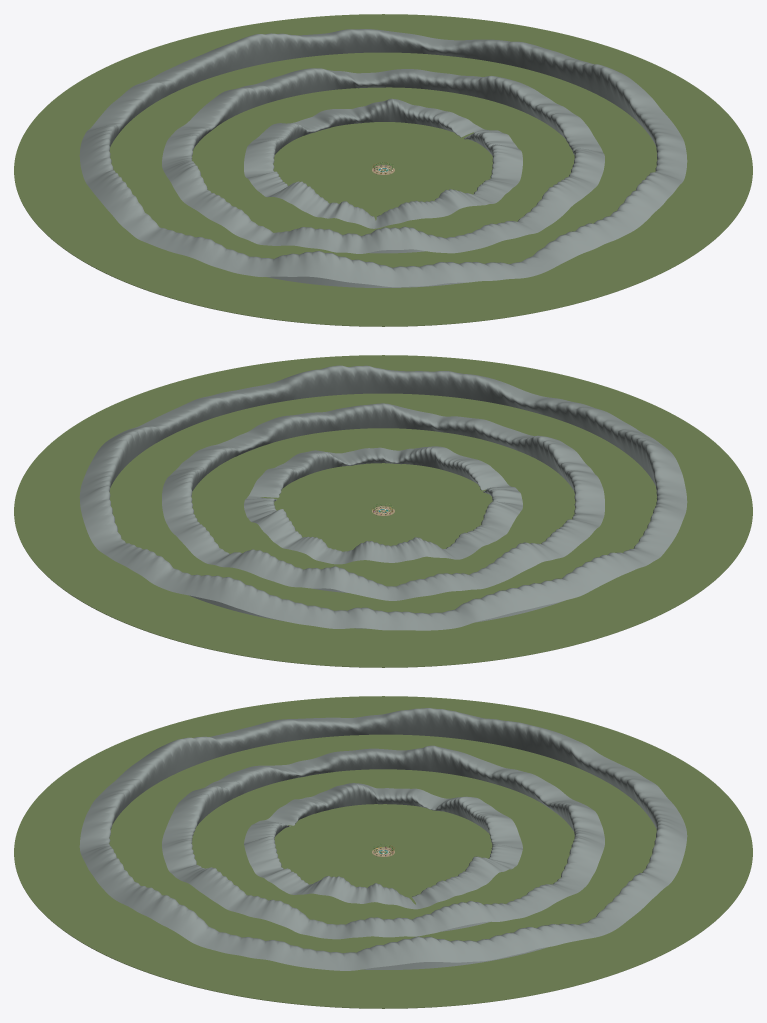
File: Sanctuary.glb
The picture shows the model from 3 angles, top to bottom: view 1: azimuth 30°, elevation 25°; view 2: azimuth 150°, elevation 25°; view 3: azimuth 270°, elevation 25°; orthographic projection.
Parts seen in each view (by area): view 1: Meadow ground, Mountain horizon 2, Mountain horizon 1, Mountain horizon 0; view 2: Meadow ground, Mountain horizon 2, Mountain horizon 1, Mountain horizon 0; view 3: Meadow ground, Mountain horizon 2, Mountain horizon 1, Mountain horizon 0.
Part boxes in pixels (x1=…): Meadow ground: x1=14, y1=14, x2=752, y2=326; Mountain horizon 2: x1=79, y1=29, x2=687, y2=287; Mountain horizon 1: x1=162, y1=68, x2=604, y2=253; Mountain horizon 0: x1=244, y1=98, x2=522, y2=228; Meadow ground: x1=14, y1=355, x2=752, y2=667; Mountain horizon 2: x1=79, y1=365, x2=687, y2=630; Mountain horizon 1: x1=162, y1=403, x2=604, y2=600; Mountain horizon 0: x1=244, y1=446, x2=522, y2=564; Meadow ground: x1=14, y1=696, x2=752, y2=1008; Mountain horizon 2: x1=79, y1=708, x2=687, y2=970; Mountain horizon 1: x1=162, y1=745, x2=604, y2=939; Mountain horizon 0: x1=244, y1=783, x2=522, y2=909.
Size of the model in its own units: 900 by 45.51 by 900.
17 materials, 1 textured.
